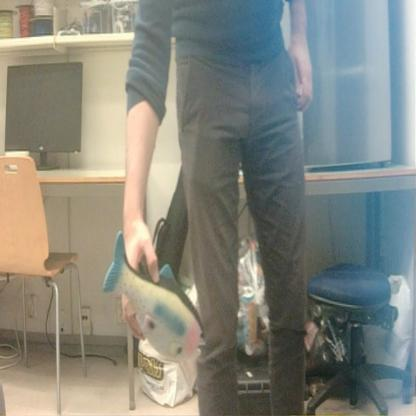rubberfish: (102, 230, 210, 366)
